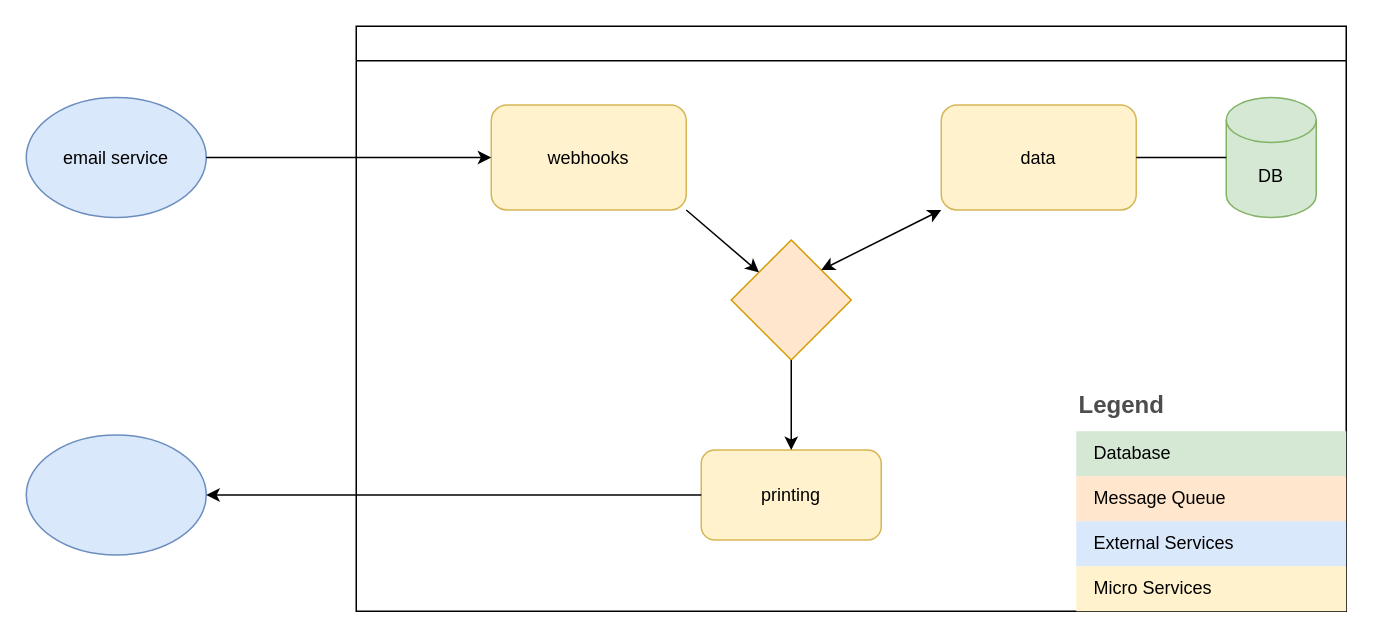
Image size: 1373x638. Some labels were removed from this diagram. The box of each missing label's shape, as (x1, y1, x2, y2) in pixels:
html page: (25, 434, 206, 555)
rabbit-Mq: (730, 238, 851, 360)
